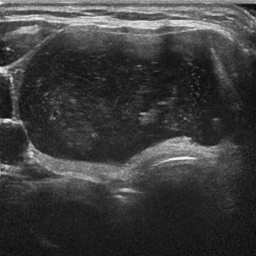mass: (18, 27, 243, 166)
